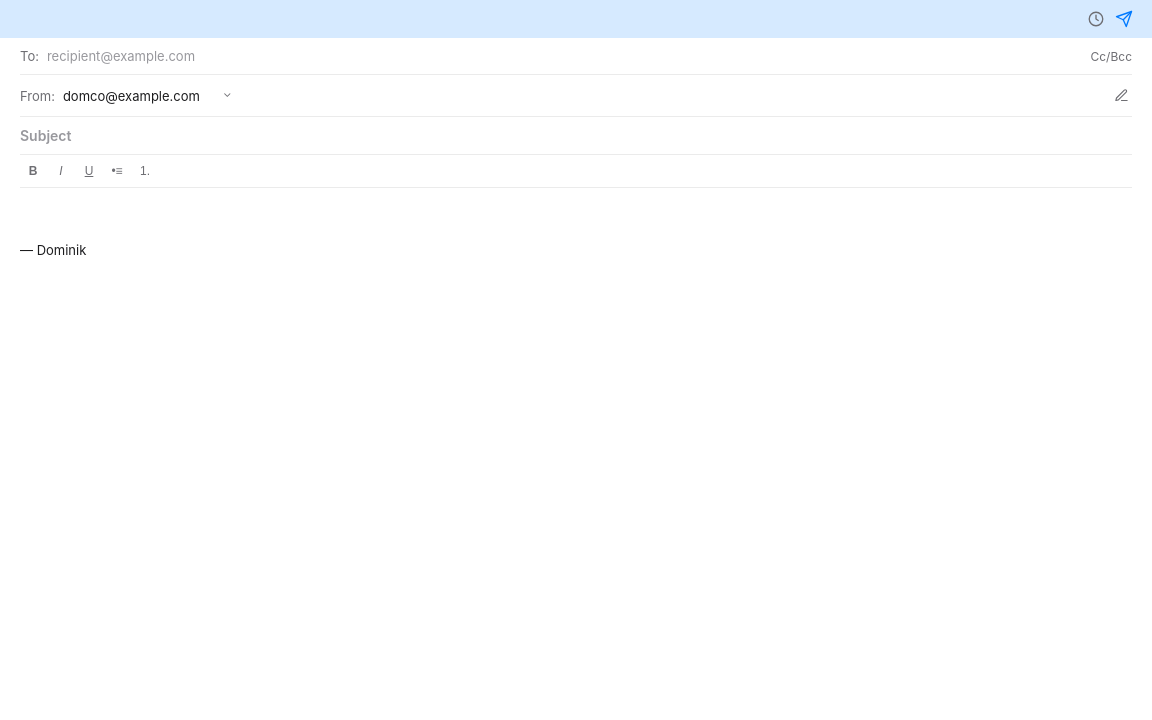
Test: swaps the inserted block when another signature is picked
Click the button named "Signature" at (1122, 96), box [1111, 85, 1132, 106]
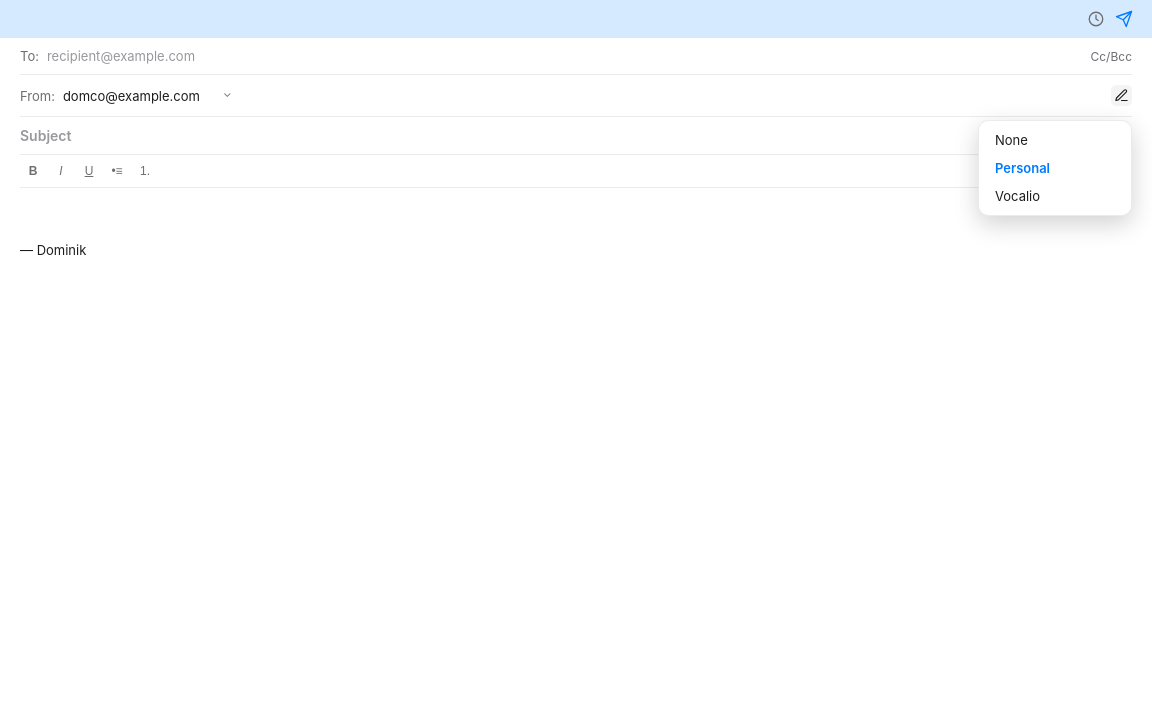
Click the button "Vocalio" at (1055, 196), box [985, 183, 1125, 209]
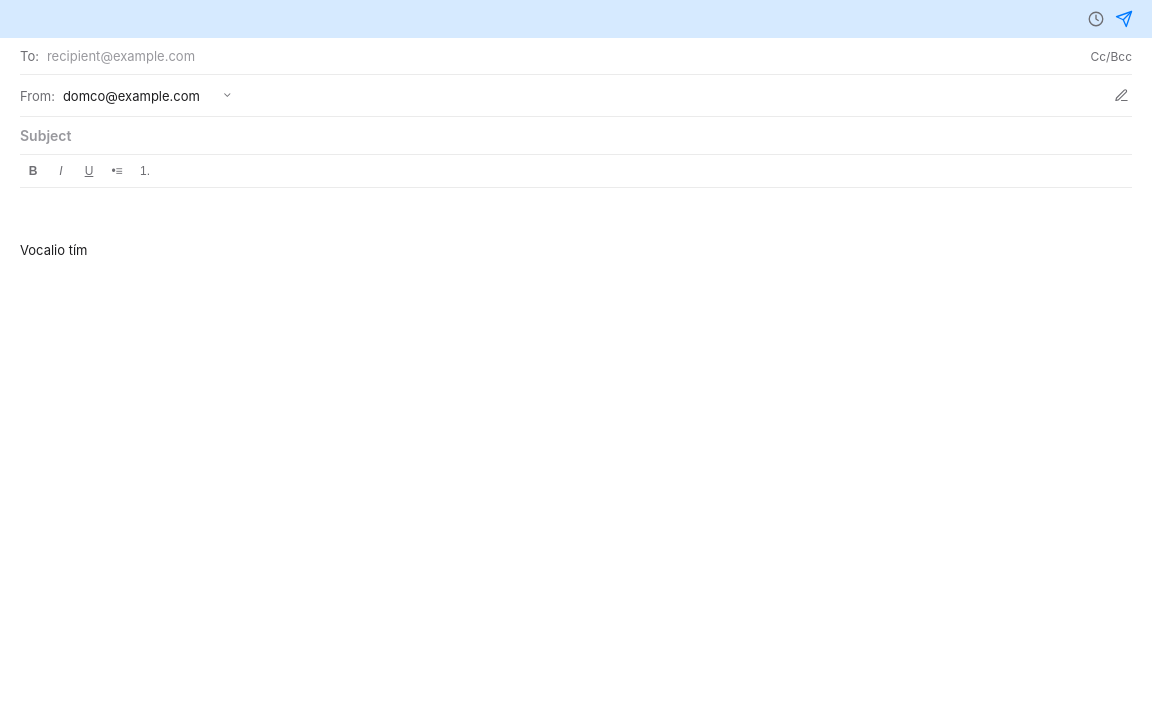
Expected: the field named "Message body" reads "Vocalio tím", [20, 242, 88, 258]
Expected: the field named "Message body" no longer shows "— Dominik", [20, 242, 88, 258]
Expected: the button "None" is gone
